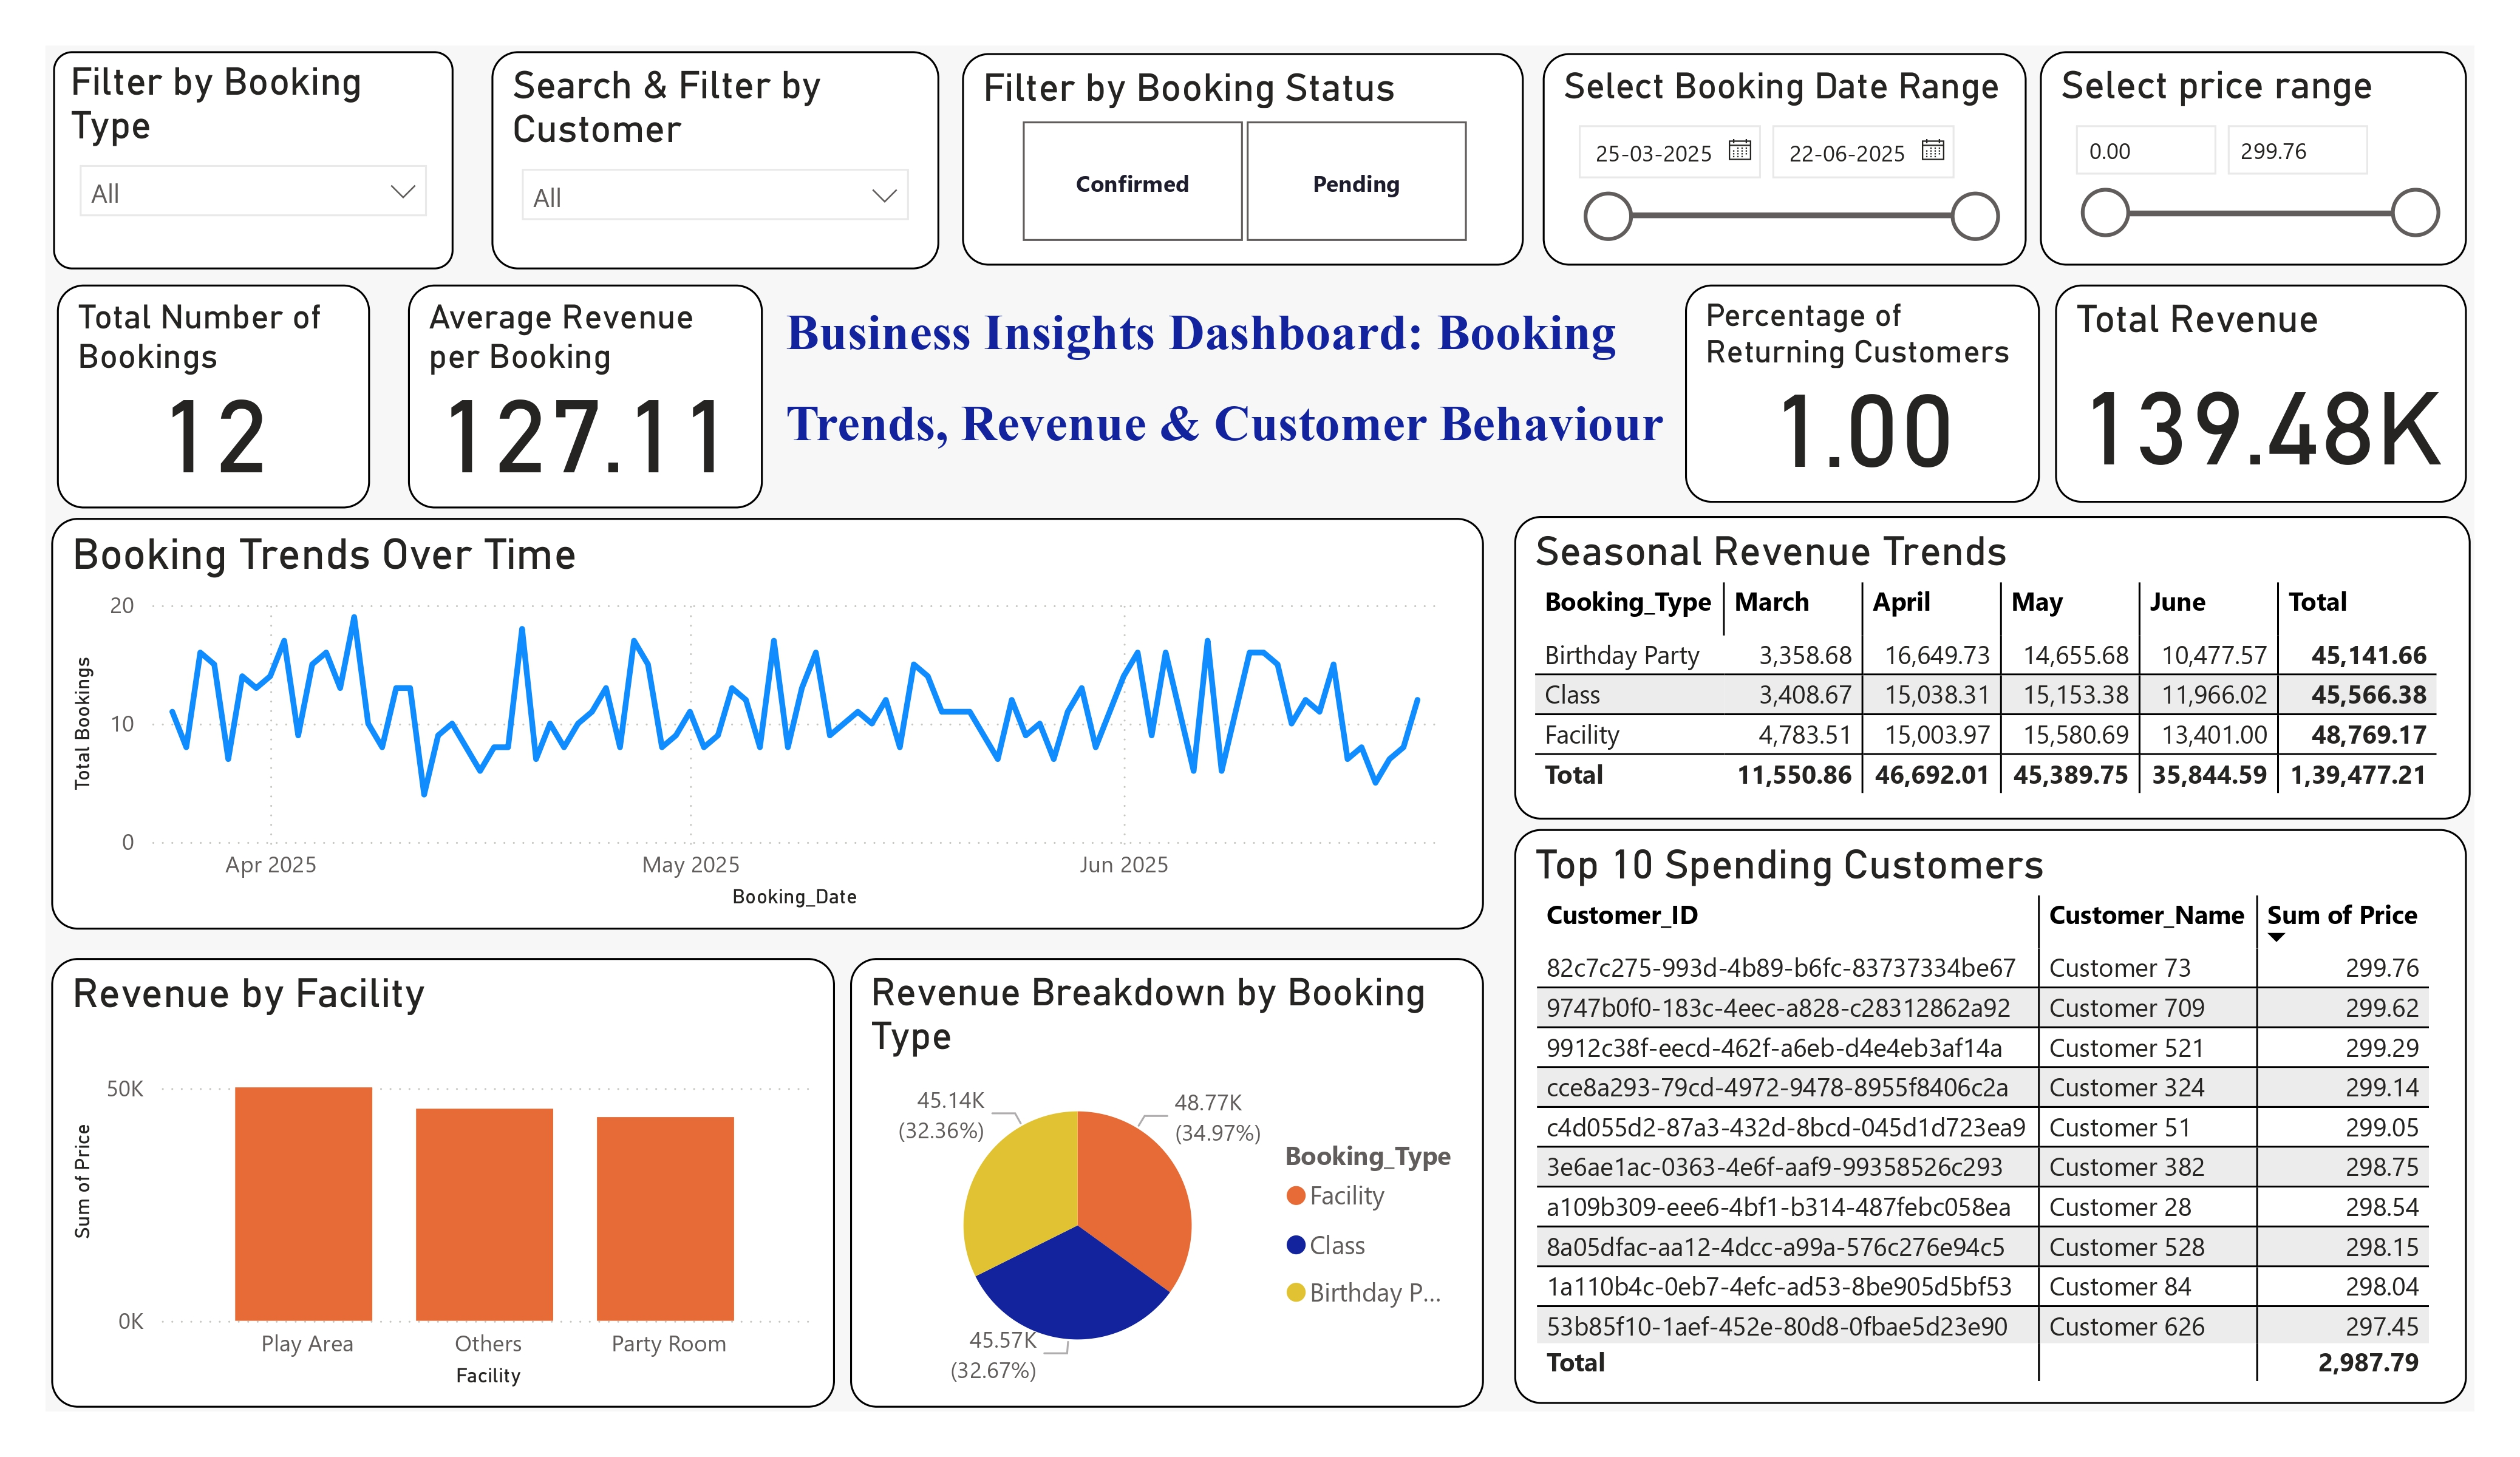

Layout of this report page (visuals, bound fields, positions):
{"tool":"powerbi","page":{"name":"Page 1","canvas":[1280,720],"ordinal":0},"visuals":[{"type":"pieChart","title":"Revenue Breakdown by Booking Type ","fields":{"Category":["cleaned_booking_data.Booking_Type"],"Y":["cleaned_booking_data.Total Revenue"]},"box":[423.8,481.2,333.8,236.2],"z":0},{"type":"lineChart","title":" Booking Trends Over Time","fields":{"Category":["cleaned_booking_data.Booking_Date.Variation.Date Hierarchy.Day"],"Y":["cleaned_booking_data.Total Bookings"]},"box":[2.5,248.8,755,217.5],"z":1000},{"type":"pivotTable","title":"Seasonal Revenue Trends","fields":{"Rows":["cleaned_booking_data.Booking_Type"],"Values":["Sum(cleaned_booking_data.Price)"],"Columns":["cleaned_booking_data.Booking_Date.Variation.Date Hierarchy.Month"]},"box":[773.8,247.5,503.8,160],"z":2000},{"type":"tableEx","title":"Top 10 Spending Customers","fields":{"Values":["cleaned_booking_data.Customer_ID","cleaned_booking_data.Customer_Name","Sum(cleaned_booking_data.Price)"]},"box":[773.8,412.5,502.5,303.8],"z":3000},{"type":"kpi","title":"Percentage of Returning Customers","fields":{"Indicator":["cleaned_booking_data.Repeat Customer %"],"TrendLine":["cleaned_booking_data.Booking_ID"]},"box":[863.8,126.2,187.5,115],"z":4000},{"type":"kpi","title":"Average Revenue per Booking","fields":{"Indicator":["cleaned_booking_data.Avg Revenue per Booking"],"TrendLine":["cleaned_booking_data.Booking_Date"]},"box":[191.2,126.2,186.2,117.5],"z":5000},{"type":"kpi","title":"Total Number of Bookings","fields":{"Indicator":["cleaned_booking_data.Total Bookings"],"TrendLine":["cleaned_booking_data.Booking_Date"]},"box":[6.2,126.2,165,117.5],"z":6000},{"type":"slicer","title":"Filter by Booking Type","fields":{"Values":["cleaned_booking_data.Booking_Type"]},"box":[3.8,2.5,211.2,115],"z":7000},{"type":"slicer","title":"Select Booking Date Range","fields":{"Values":["cleaned_booking_data.Booking_Date"]},"box":[788.8,3.8,255,112.5],"z":8000},{"type":"slicer","title":"Filter by Booking Status","fields":{"Values":["cleaned_booking_data.Status"]},"box":[482.5,3.8,296.2,112.5],"z":9000},{"type":"slicer","title":"Select price range","fields":{"Values":["cleaned_booking_data.Price"]},"box":[1051.2,2.5,225,113.8],"z":10000},{"type":"slicer","title":"Search & Filter by Customer","fields":{"Values":["cleaned_booking_data.Customer_Name"]},"box":[235,2.5,236.2,115],"z":11000},{"type":"clusteredColumnChart","title":"Revenue by Facility","fields":{"Category":["cleaned_booking_data.Facility"],"Y":["Sum(cleaned_booking_data.Price)"]},"box":[2.5,481.2,413.8,236.2],"z":12000},{"type":"card","title":"Total Revenue","fields":{"Values":["cleaned_booking_data.Total Revenue"]},"box":[1058.8,126.2,217.5,115],"z":13000},{"type":"textbox","box":[385,131.2,481.2,115],"z":14000}]}

Visuals, with their boxes in screenshot pixels (x1, y1, x2, y2):
"Revenue Breakdown by Booking Type " pieChart: box(859, 947, 1485, 1389)
" Booking Trends Over Time" lineChart: box(70, 512, 1484, 919)
"Seasonal Revenue Trends" pivotTable: box(1514, 509, 2458, 809)
"Top 10 Spending Customers" tableEx: box(1514, 818, 2456, 1387)
"Percentage of Returning Customers" kpi: box(1683, 282, 2034, 498)
"Average Revenue per Booking" kpi: box(424, 282, 772, 502)
"Total Number of Bookings" kpi: box(77, 282, 386, 502)
"Filter by Booking Type" slicer: box(73, 50, 468, 266)
"Select Booking Date Range" slicer: box(1543, 53, 2020, 263)
"Filter by Booking Status" slicer: box(969, 53, 1524, 263)
"Select price range" slicer: box(2034, 50, 2456, 263)
"Search & Filter by Customer" slicer: box(506, 50, 948, 266)
"Revenue by Facility" clusteredColumnChart: box(70, 947, 845, 1389)
"Total Revenue" card: box(2048, 282, 2456, 498)
textbox: box(786, 291, 1687, 507)
